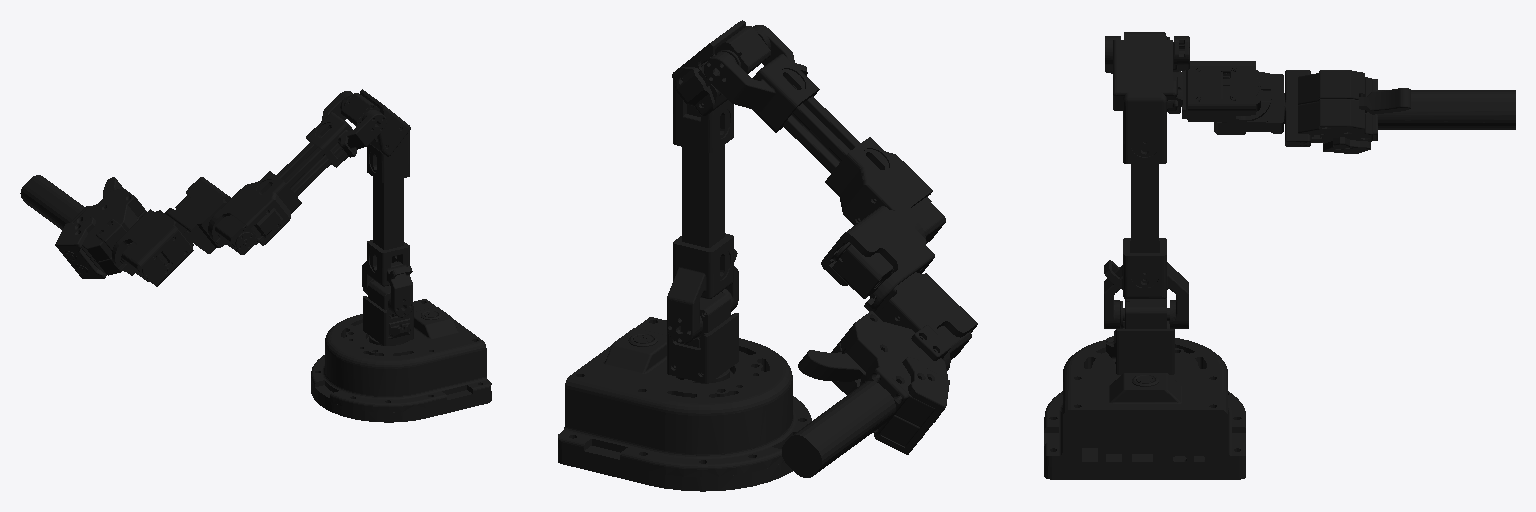
robot.urdf — Alicia_D_v5_6_leader_ur:
<?xml version="1.0" encoding="utf-8"?>
<!-- This URDF was automatically created by SolidWorks to URDF Exporter! Originally created by Stephen Brawner (brawner@gmail.com) 
     Commit Version: 1.6.0-4-g7f85cfe  Build Version: 1.6.7995.38578
     For more information, please see http://wiki.ros.org/sw_urdf_exporter -->
<robot
  name="Alicia_D_v5_6_leader_ur">

  <link
    name="base_link">
    <inertial>
      <origin
        xyz="-0.00817598016946611 3.43337401791533E-05 0.0257574563812739"
        rpy="0 0 0" />
      <mass
        value="0.365261662647833" />
      <inertia
        ixx="0.000607656881326627"
        ixy="-5.65878546746065E-07"
        ixz="-2.55566026646349E-05"
        iyy="0.000549440990034562"
        iyz="1.55186050887857E-07"
        izz="0.00104793810417556" />
    </inertial>
    <visual>
      <origin
        xyz="0 0 0"
        rpy="0 0 0" />
      <geometry>
        <mesh
          filename="meshes/base_link.STL" />
      </geometry>
      <material
        name="">
        <color
          rgba="0.15 0.15 0.15 1" />
      </material>
    </visual>
    <collision>
      <origin
        xyz="0 0 0"
        rpy="0 0 0" />
      <geometry>
        <mesh
          filename="meshes/base_link.STL" />
      </geometry>
    </collision>
  </link>
  <link
    name="link1">
    <inertial>
      <origin
        xyz="-2.04631068555228E-07 -0.00240832815383055 0.0195303306657103"
        rpy="0 0 0" />
      <mass
        value="0.0240091651576837" />
      <inertia
        ixx="6.58027952395861E-06"
        ixy="-4.77300820327066E-11"
        ixz="7.39453686185918E-10"
        iyy="5.78052494362357E-06"
        iyz="9.07795493175275E-08"
        izz="5.78112658676492E-06" />
    </inertial>
    <visual>
      <origin
        xyz="0 0 0"
        rpy="0 0 0" />
      <geometry>
        <mesh
          filename="meshes/link1.STL" />
      </geometry>
      <material
        name="">
        <color
          rgba="0.15 0.15 0.15 1" />
      </material>
    </visual>
    <collision>
      <origin
        xyz="0 0 0"
        rpy="0 0 0" />
      <geometry>
        <mesh
          filename="meshes/link1.STL" />
      </geometry>
    </collision>
  </link>
  <joint
    name="joint1"
    type="revolute">
    <origin
      xyz="-0.01474 0 0.05085"
      rpy="0 0 0" />
    <parent
      link="base_link" />
    <child
      link="link1" />
    <axis
      xyz="0 0 1" />
    <limit
      lower="-3.14159"
      upper="3.14159"
      effort="5"
      velocity="12" />
  </joint>
  <link
    name="link2">
    <inertial>
      <origin
        xyz="0.105080092781732 0.00201925807640772 -0.00020684191311512"
        rpy="0 0 0" />
      <mass
        value="0.0953620090038457" />
      <inertia
        ixx="2.50001717217596E-05"
        ixy="-1.97106207110621E-06"
        ixz="-4.62729679954602E-07"
        iyy="6.59817923049242E-05"
        iyz="-2.63497595667476E-07"
        izz="5.66495653683685E-05" />
    </inertial>
    <visual>
      <origin
        xyz="0 0 0"
        rpy="0 0 0" />
      <geometry>
        <mesh
          filename="meshes/link2.STL" />
      </geometry>
      <material
        name="">
        <color
          rgba="0.15 0.15 0.15 1" />
      </material>
    </visual>
    <collision>
      <origin
        xyz="0 0 0"
        rpy="0 0 0" />
      <geometry>
        <mesh
          filename="meshes/link2.STL" />
      </geometry>
    </collision>
  </link>
  <joint
    name="joint2"
    type="revolute">
    <origin
      xyz="0 -0.0003 0.04286"
      rpy="1.5708 -1.5708 0" />
    <parent
      link="link1" />
    <child
      link="link2" />
    <axis
      xyz="0 0 -1" />
    <limit
      lower="-1.75"
      upper="1.75"
      effort="5"
      velocity="12" />
  </joint>
  <link
    name="link3">
    <inertial>
      <origin
        xyz="-2.22488603185411E-06 0.0809012296835907 0.0013354436565265"
        rpy="0 0 0" />
      <mass
        value="0.0959280140923854" />
      <inertia
        ixx="5.72048746590228E-05"
        ixy="-5.94657124361759E-09"
        ixz="-3.88564255376363E-09"
        iyy="2.53363883007596E-05"
        iyz="-2.62700816711359E-06"
        izz="4.71455273111588E-05" />
    </inertial>
    <visual>
      <origin
        xyz="0 0 0"
        rpy="0 0 0" />
      <geometry>
        <mesh
          filename="meshes/link3.STL" />
      </geometry>
      <material
        name="">
        <color
          rgba="0.15 0.15 0.15 1" />
      </material>
    </visual>
    <collision>
      <origin
        xyz="0 0 0"
        rpy="0 0 0" />
      <geometry>
        <mesh
          filename="meshes/link3.STL" />
      </geometry>
    </collision>
  </link>
  <joint
    name="joint3"
    type="revolute">
    <origin
      xyz="0.18922 0.027473 -0.00041"
      rpy="0 3.14159 0.6109" />
    <parent
      link="link2" />
    <child
      link="link3" />
    <axis
      xyz="0 0 1" />
    <limit
      lower="-0.6"
      upper="2.2"
      effort="5"
      velocity="12" />
  </joint>
  <link
    name="link4">
    <inertial>
      <origin
        xyz="-9.81217498918774E-08 0.00118474649927133 0.0286615886017417"
        rpy="0 0 0" />
      <mass
        value="0.0468353202184797" />
      <inertia
        ixx="2.14161027985066E-05"
        ixy="-3.59866693609098E-11"
        ixz="7.61643399097307E-10"
        iyy="1.76051404994565E-05"
        iyz="-4.59965226908815E-08"
        izz="1.66088272328661E-05" />
    </inertial>
    <visual>
      <origin
        xyz="0 0 0"
        rpy="0 0 0" />
      <geometry>
        <mesh
          filename="meshes/link4.STL" />
      </geometry>
      <material
        name="">
        <color
          rgba="0.15 0.15 0.15 1" />
      </material>
    </visual>
    <collision>
      <origin
        xyz="0 0 0"
        rpy="0 0 0" />
      <geometry>
        <mesh
          filename="meshes/link4.STL" />
      </geometry>
    </collision>
  </link>
  <joint
    name="joint4"
    type="revolute">
    <origin
      xyz="0 0.1601 0.0187"
      rpy="0 0 0" />
    <parent
      link="link3" />
    <child
      link="link4" />
    <axis
      xyz="0 0 -1" />
    <limit
      lower="-3.14159"
      upper="3.14159"
      effort="5"
      velocity="12" />
  </joint>
  <link
    name="link5">
    <inertial>
      <origin
        xyz="9.74406114406801E-08 -0.00126298277588985 0.0290179035316974"
        rpy="0 0 0" />
      <mass
        value="0.047589349042095" />
      <inertia
        ixx="2.1435325490274E-05"
        ixy="-3.61472090951592E-11"
        ixz="-7.62355715294754E-10"
        iyy="1.7642137044503E-05"
        iyz="4.59937690236657E-08"
        izz="1.66280621722411E-05" />
    </inertial>
    <visual>
      <origin
        xyz="0 0 0"
        rpy="0 0 0" />
      <geometry>
        <mesh
          filename="meshes/link5.STL" />
      </geometry>
      <material
        name="">
        <color
          rgba="0.15 0.15 0.15 1" />
      </material>
    </visual>
    <collision>
      <origin
        xyz="0 0 0"
        rpy="0 0 0" />
      <geometry>
        <mesh
          filename="meshes/link5.STL" />
      </geometry>
    </collision>
  </link>
  <joint
    name="joint5"
    type="revolute">
    <origin
      xyz="0 0.02 0.05115"
      rpy="-1.5708 0 0" />
    <parent
      link="link4" />
    <child
      link="link5" />
    <axis
      xyz="0 0 -1" />
    <limit
      lower="-3.14159"
      upper="3.14159"
      effort="5"
      velocity="12" />
  </joint>
  <link
    name="link6">
    <inertial>
      <origin
        xyz="-7.97112506550623E-05 0.000627622555661109 0.0717230759854238"
        rpy="0 0 0" />
      <mass
        value="0.148889214888287" />
      <inertia
        ixx="9.98486158187281E-05"
        ixy="9.91924556066784E-08"
        ixz="-2.37027527445966E-07"
        iyy="8.4552718203912E-05"
        iyz="5.36141370563608E-07"
        izz="3.99646905705173E-05" />
    </inertial>
    <visual>
      <origin
        xyz="0 0 0"
        rpy="0 0 0" />
      <geometry>
        <mesh
          filename="meshes/link6.STL" />
      </geometry>
      <material
        name="">
        <color
          rgba="0.15 0.15 0.15 1" />
      </material>
    </visual>
    <collision>
      <origin
        xyz="0 0 0"
        rpy="0 0 0" />
      <geometry>
        <mesh
          filename="meshes/link6.STL" />
      </geometry>
    </collision>
  </link>
  <joint
    name="joint6"
    type="revolute">
    <origin
      xyz="0 -0.0213 0.05115"
      rpy="1.5708 0 0" />
    <parent
      link="link5" />
    <child
      link="link6" />
    <axis
      xyz="0 0 -1" />
    <limit
      lower="-3.14159"
      upper="3.14159"
      effort="5"
      velocity="12" />
  </joint>
  <link
    name="tool0">
    <visual>
      <origin
        xyz="0 0 0"
        rpy="0 0 0" />
      <geometry>
        <sphere radius="0.005" />
      </geometry>
      <material
        name="green_virtual_sphere_material">
        <color
          rgba="0 1 0 1" />
      </material>
    </visual>
  </link>
  <joint
    name="tool0_fixed_joint"
    type="fixed">
    <origin
      xyz="0 0 0.05"
      rpy="0 0 0" />
    <parent
      link="link6" />
    <child
      link="tool0" />
    <axis
      xyz="0 0 0" />
  </joint>
</robot>

--- Render facts (derived) ---
3 views of the same robot in one strip: view 1: azimuth 30°, elevation 25°; view 2: azimuth 150°, elevation 25°; view 3: azimuth 270°, elevation 25° (orthographic).
Robot: Alicia_D_v5_6_leader_ur — 8 links, 7 joints (6 revolute, 1 fixed); root link base_link; default pose: all joints at 0.
Visible links, largest first — view 1: base_link, link3, link2, link6, link5, link4, link1; view 2: base_link, link6, link2, link3, link4, link5, link1; view 3: base_link, link2, link6, link4, link1, link5, link3.
Link boxes in pixels (x1,y1,x2,y2): base_link: [311, 299, 491, 422]; link3: [208, 91, 386, 254]; link2: [341, 89, 412, 317]; link6: [20, 175, 146, 278]; link5: [112, 209, 193, 286]; link4: [165, 177, 230, 253]; link1: [363, 280, 413, 345]; base_link: [558, 317, 811, 491]; link6: [782, 311, 950, 477]; link2: [667, 20, 770, 343]; link3: [704, 25, 945, 243]; link4: [821, 206, 934, 311]; link5: [874, 272, 977, 370]; link1: [667, 292, 738, 383]; base_link: [1044, 338, 1245, 479]; link2: [1104, 32, 1188, 328]; link6: [1284, 70, 1515, 153]; link4: [1181, 61, 1271, 121]; link1: [1106, 298, 1174, 374]; link5: [1214, 72, 1283, 134]; link3: [1105, 36, 1189, 113].
Bounding box of the posed robot: 0.3333 × 0.3265 × 0.2969 m (x, y, z).
Meshes: 7 distinct files referenced, 7 mesh visuals loaded (7 binary STL).
